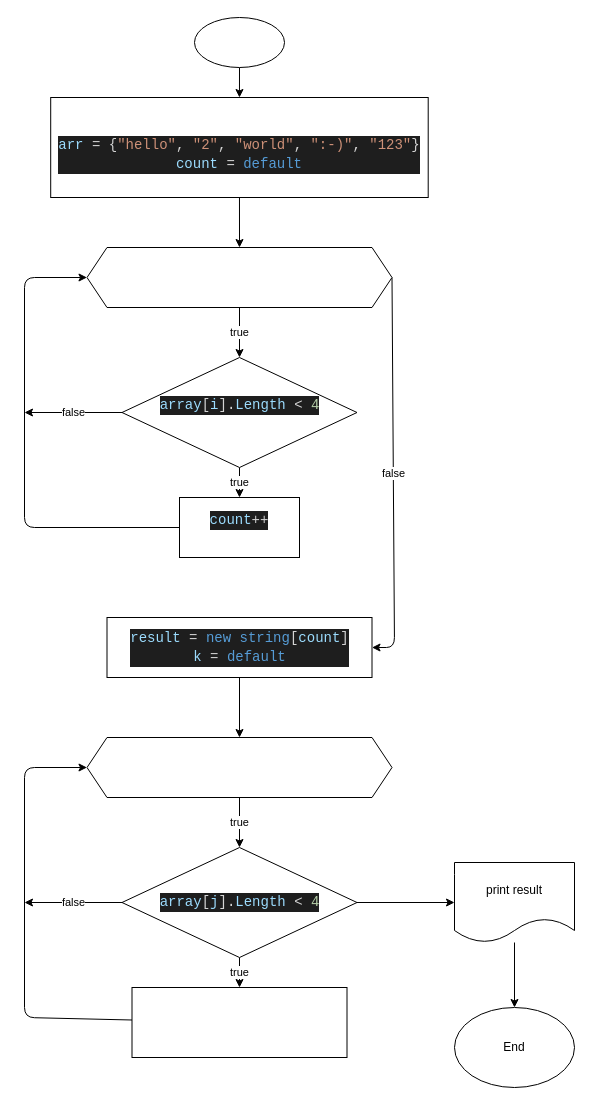
Some shapes in this 592 by 1105 pixel diagram are drawn without their labels. The centre of each missing label's shape, as x and y in pixels:
"int i = 0 ; i < array . Length ; i ++" goes at point (239, 277).
"int j = 0 ; j < array . Length ; j ++" goes at point (239, 767).
"result [ k ] = array [ j ]; k ++;" goes at point (239, 1022).
"start" goes at point (239, 42).
